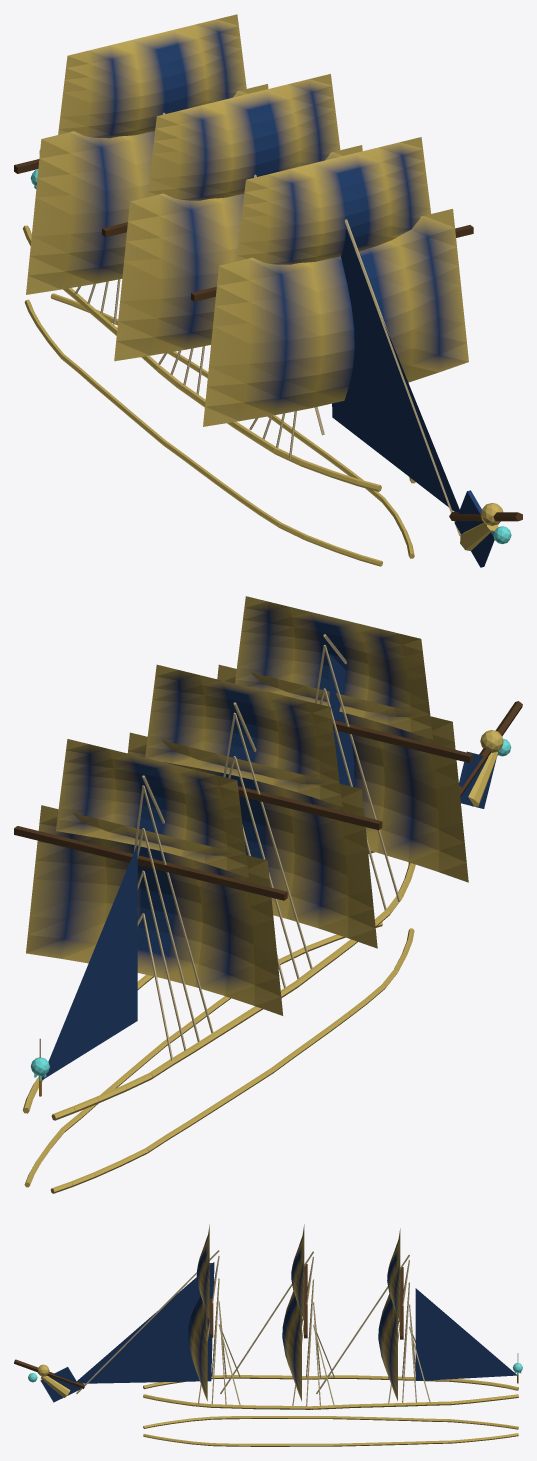
The model's file is upg_galleon_t3.glb.
The picture shows the model from 3 angles, top to bottom: view 1: azimuth 30°, elevation 25°; view 2: azimuth 150°, elevation 25°; view 3: azimuth 270°, elevation 25°; orthographic projection. The views are drawn at different scales.
Visible parts, largest first — view 1: geometry_0; view 2: geometry_0; view 3: geometry_0.
Boxes of the visible parts, bbox=[...] form: geometry_0: bbox=[14, 14, 522, 567]; geometry_0: bbox=[14, 596, 522, 1193]; geometry_0: bbox=[14, 1224, 522, 1446].
Size of the model in its own units: 10.94 by 13.4 by 32.88.
